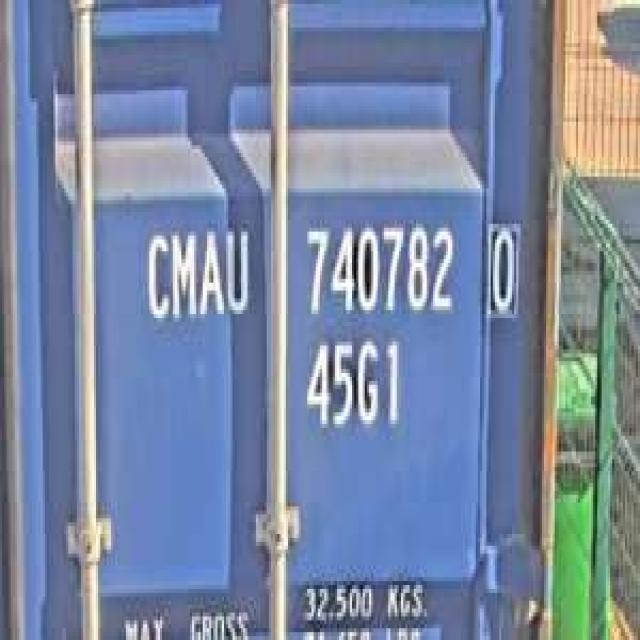dv: (482, 212, 523, 322)
owner: (139, 216, 254, 334)
serial: (298, 212, 456, 322)
size: (301, 330, 405, 440)
